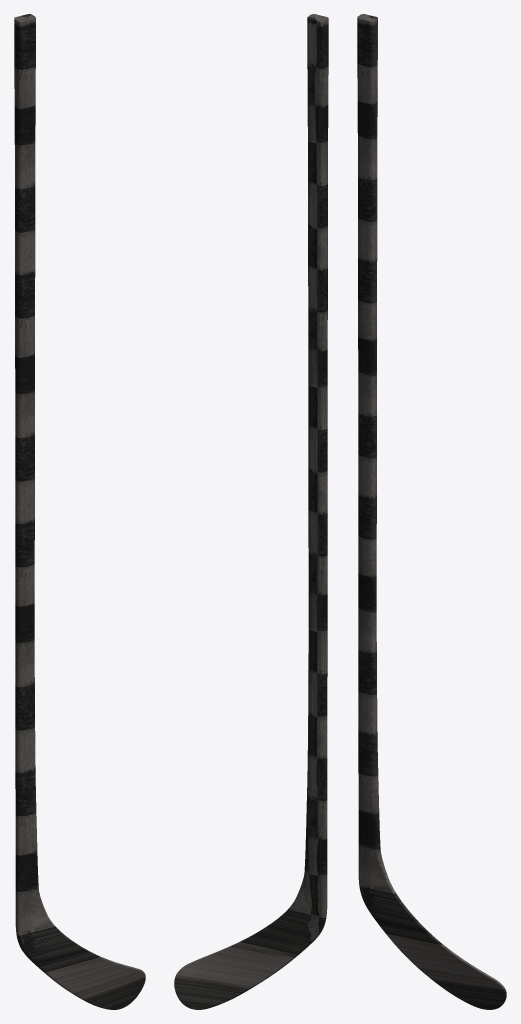
Rendered from P104-SBO.glb.
3 renders of one model, left to right at view 1: azimuth 30°, elevation 25°; view 2: azimuth 150°, elevation 25°; view 3: azimuth 330°, elevation 25°, orthographic. The views are drawn at different scales.
Parts seen in each view (by area): view 1: geometry_0; view 2: geometry_0; view 3: geometry_0.
Part boxes in pixels (x1,y1,x2,y2): geometry_0: [14, 14, 145, 1009]; geometry_0: [174, 14, 328, 1009]; geometry_0: [357, 14, 506, 1009].
Bounding box in the file's own units: 239 × 1650 × 55.71.
Materials: 1 (1 with a texture image).
